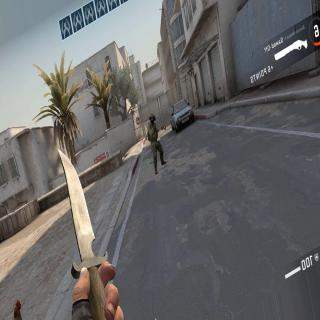CT-Body: (146, 110, 163, 172)
CT-Head: (150, 112, 156, 124)
